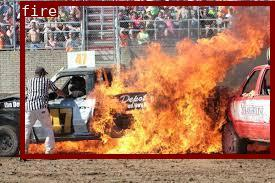fire: (19, 1, 273, 157)
